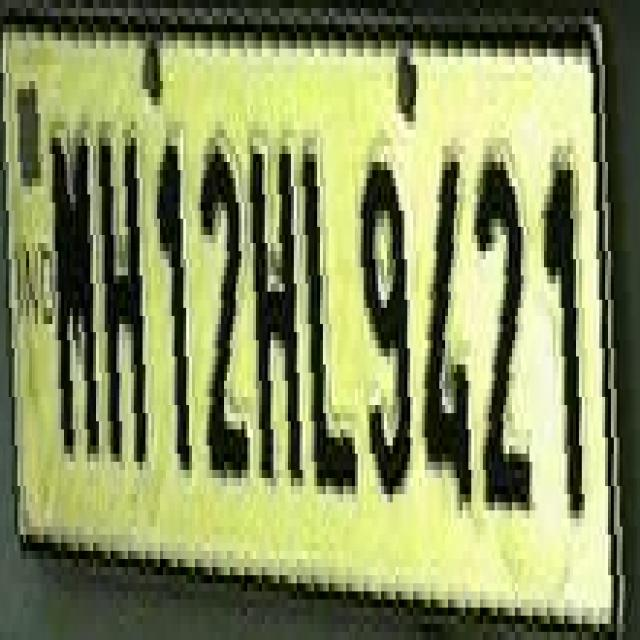license_plate: (12, 0, 596, 608)
